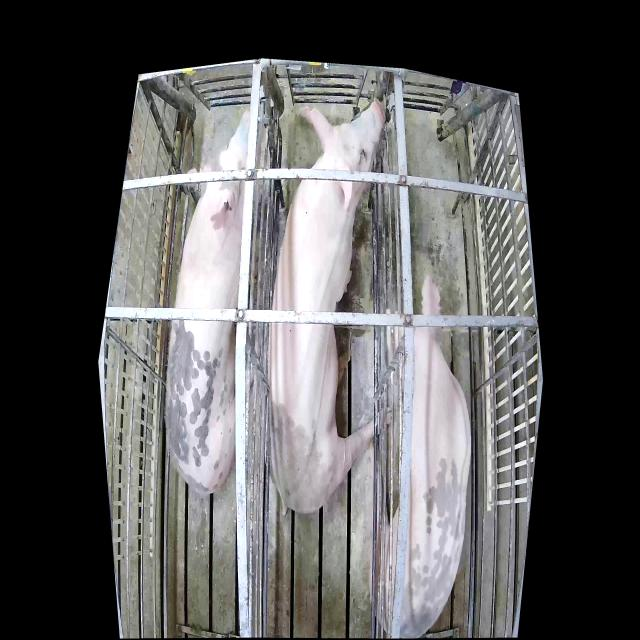pig: (267, 101, 384, 516), (367, 275, 472, 636), (165, 110, 257, 493)
